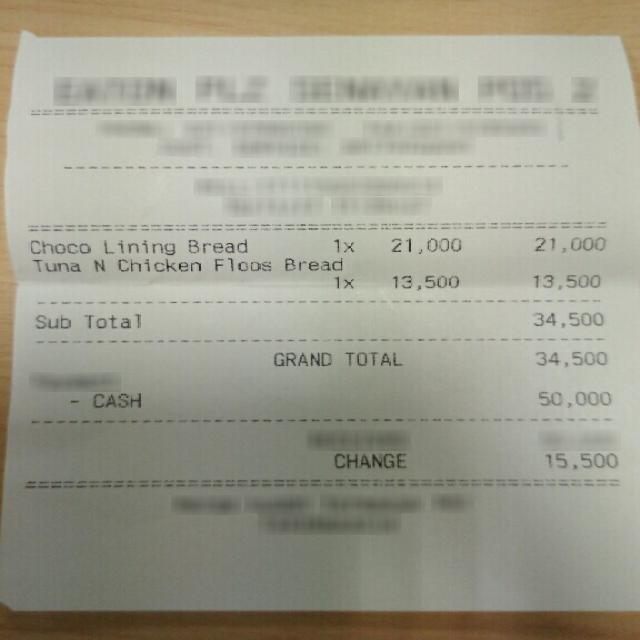kertas: (4, 32, 638, 612)
